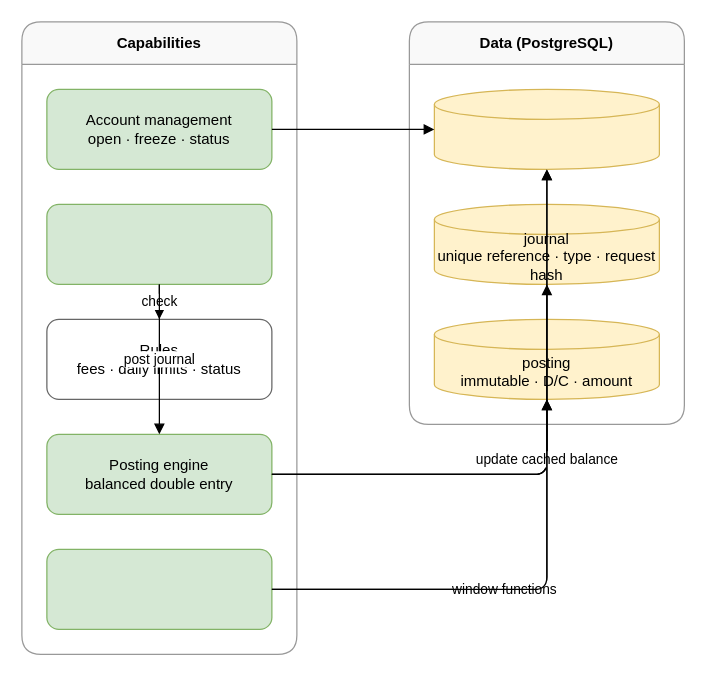
This 706x676 diagram has some shape labels left out. The shapes that lost their labels are listed below. From the top down, each one's centre as x and y in pixels, then its label:
At pixel 546 128: "account number · kind · balance · version".
At pixel 159 243: "Payments deposit · transfer · reversal".
At pixel 159 588: "Reporting statements · trial balance · consistency".
